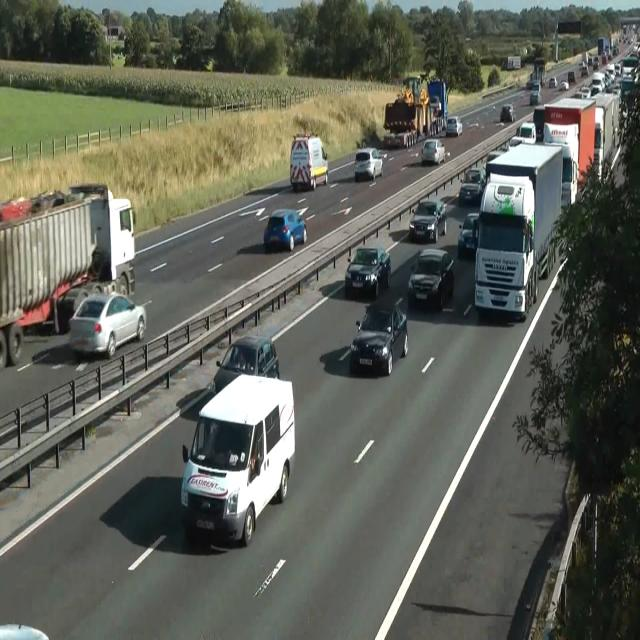bus: (67, 291, 146, 359), (349, 297, 408, 376), (212, 334, 280, 396), (408, 248, 454, 309), (344, 246, 390, 298), (0, 189, 65, 224), (263, 208, 307, 252), (457, 212, 479, 258), (459, 167, 485, 205), (353, 147, 382, 181), (0, 622, 50, 639), (509, 121, 536, 147), (421, 139, 445, 165), (445, 115, 463, 137), (500, 104, 516, 123), (429, 95, 441, 117), (530, 91, 540, 105), (559, 80, 569, 90), (532, 82, 541, 92), (549, 76, 557, 87), (580, 65, 588, 76)
jeep: (180, 372, 296, 546), (290, 132, 328, 191), (409, 198, 447, 242)
minibus: (0, 182, 136, 369), (474, 142, 562, 321), (542, 91, 620, 206), (383, 75, 448, 137), (428, 79, 448, 131), (534, 57, 546, 86), (501, 55, 521, 70)
